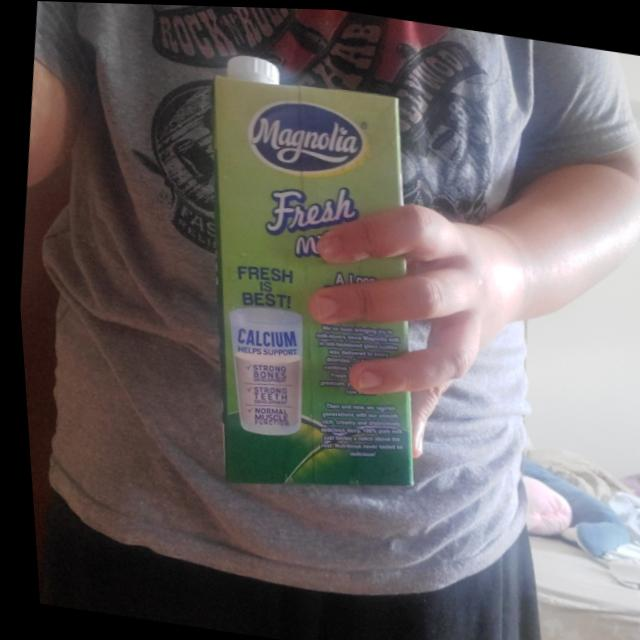milk: (161, 46, 456, 507)
